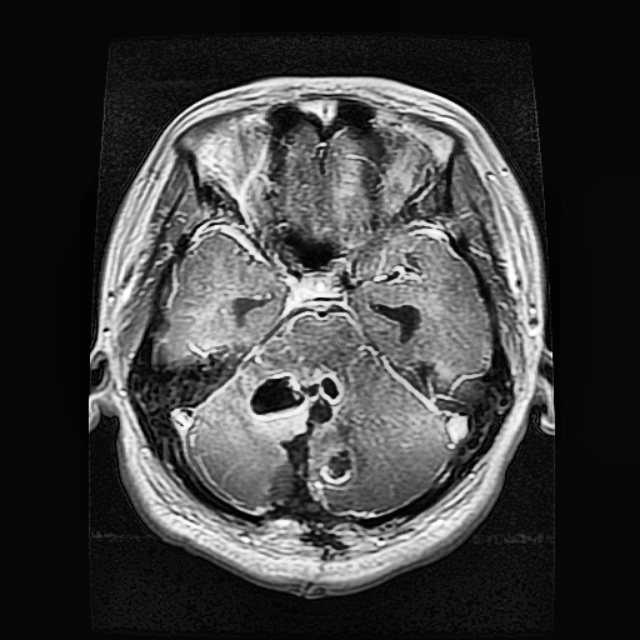Glioma: (244, 370, 359, 512)
